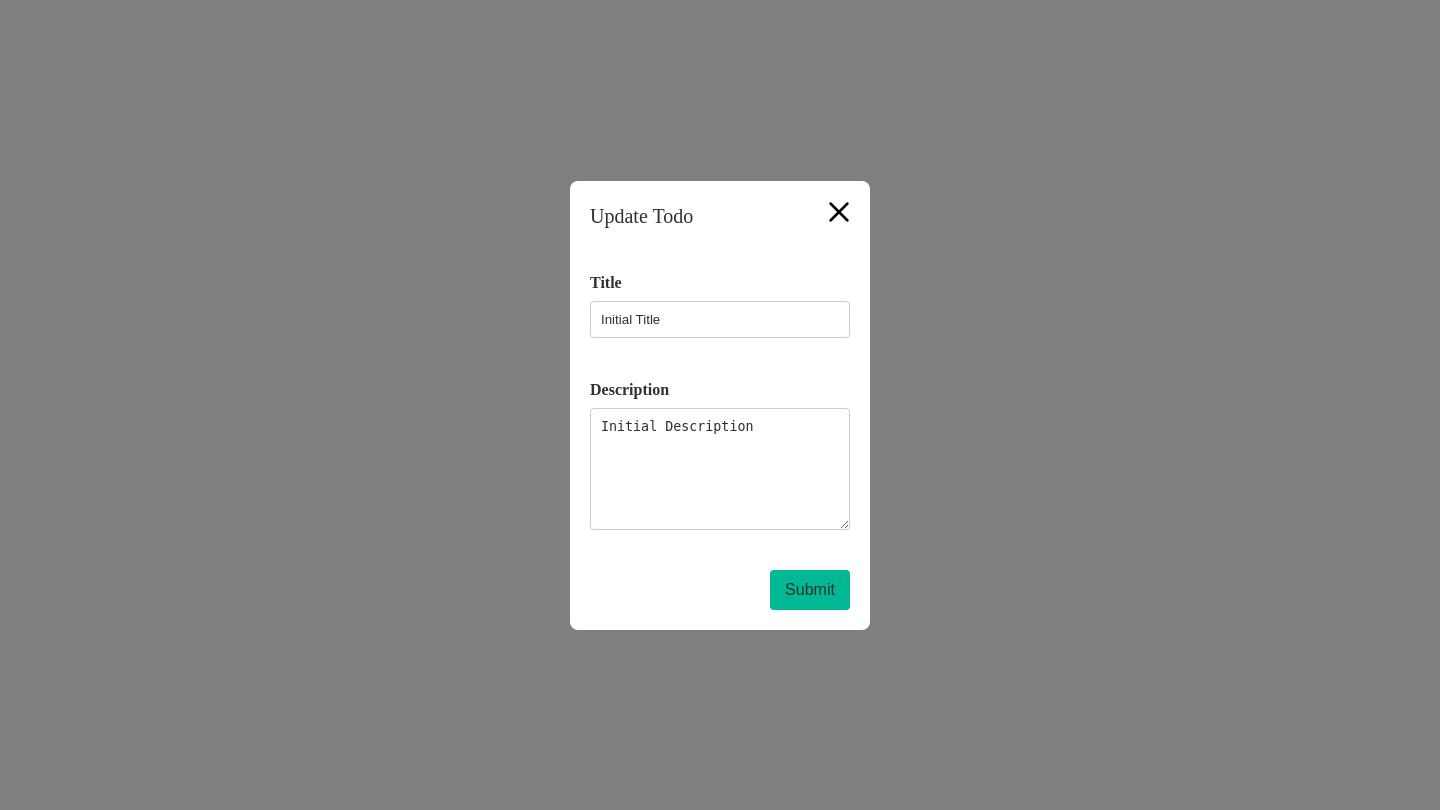
TodoFormDialog 컴포넌트 › AlertDialog에서 Cancel 버튼 클릭 시 AlertDialog가 닫혀야 합니다
Replace the text in the field with placeholder "Enter todo title" with "Updated Title" at x=720, y=319, box [590,300,850,338]
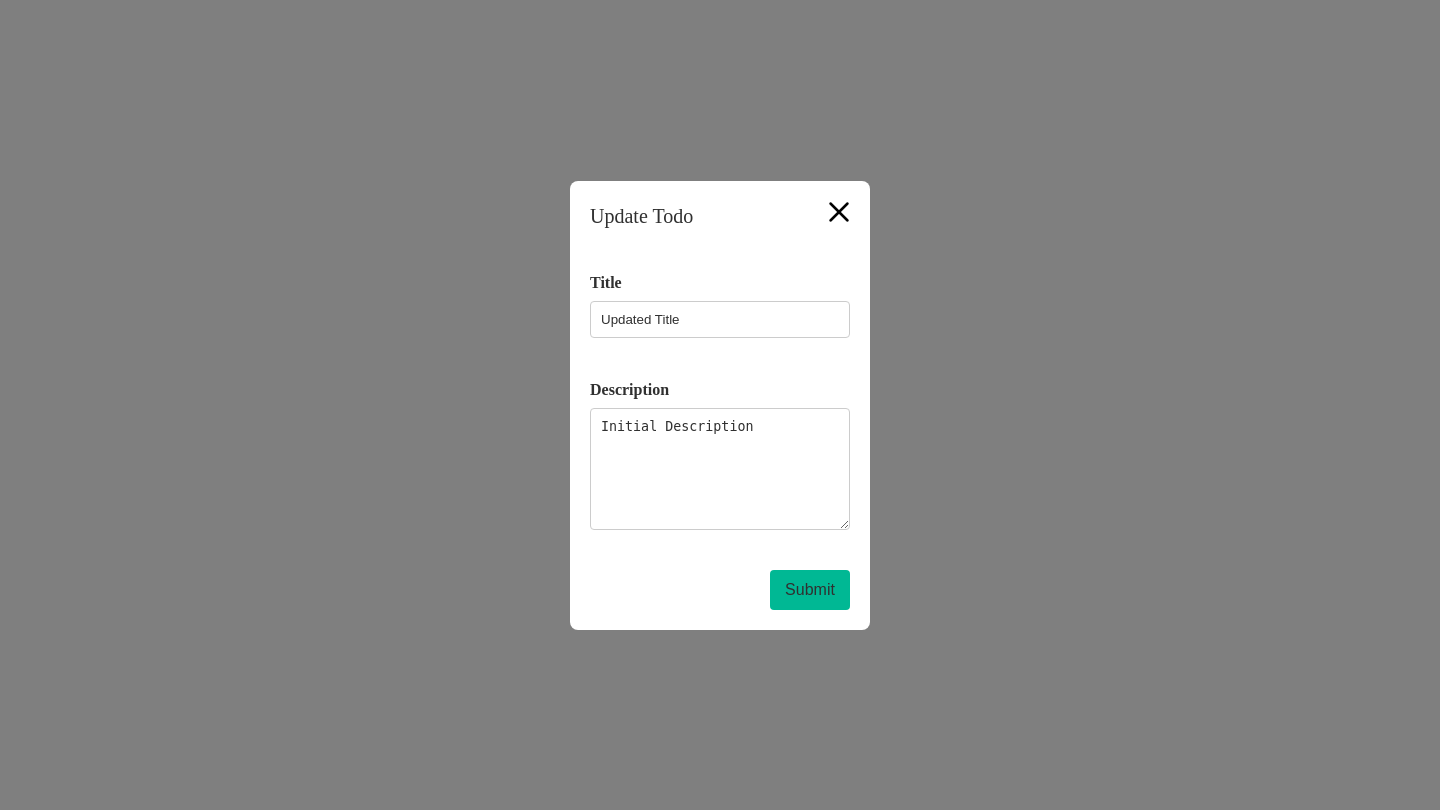
Click the button named "close" at x=839, y=212, box [813,186,865,238]
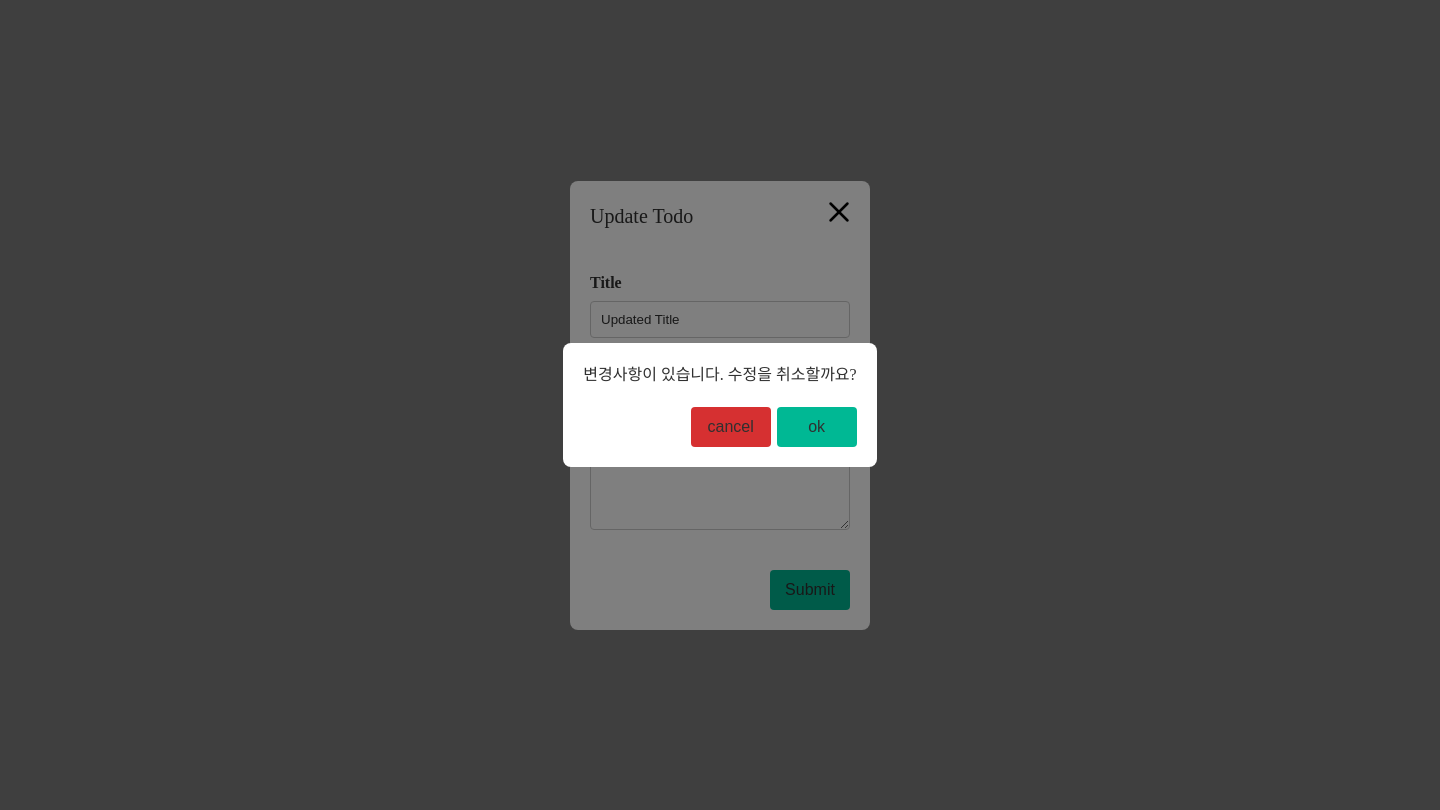
Click the button "cancel" at x=731, y=427, box [691,407,771,447]
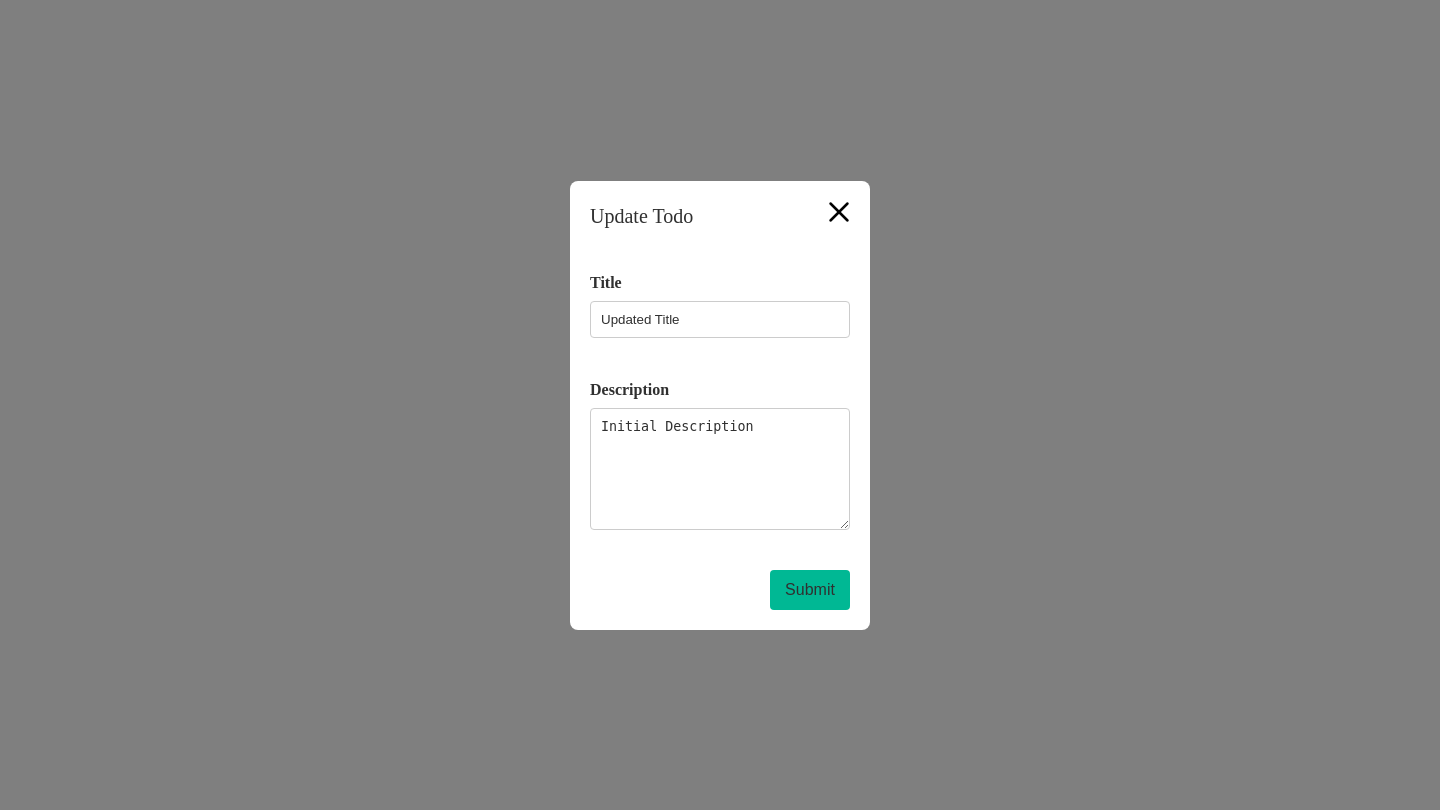
Now the text "변경사항이 있습니다. 수정을 취소할까요?" is gone
